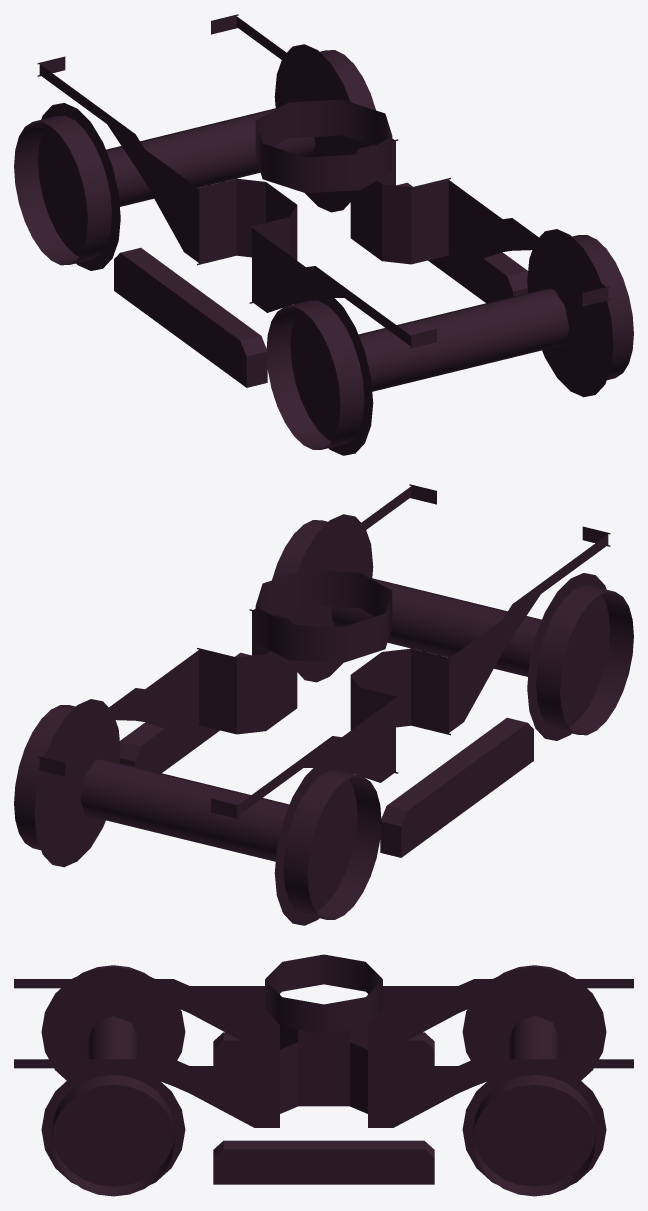
The model's file is vagon cart lod2.FBX.
The picture shows the model from 3 angles, top to bottom: view 1: azimuth 30°, elevation 25°; view 2: azimuth 150°, elevation 25°; view 3: azimuth 270°, elevation 25°; orthographic projection. The views are drawn at different scales.
Visible parts, largest first — view 1: base002, wheel 004, wheel 008; view 2: base002, wheel 008, wheel 004; view 3: base002, wheel 004, wheel 008.
Boxes of the visible parts, x1,y1,x2,y2 form: base002: (37, 14, 610, 391); wheel 004: (266, 229, 633, 455); wheel 008: (14, 44, 375, 270); base002: (37, 484, 610, 861); wheel 008: (14, 699, 381, 925); wheel 004: (272, 514, 633, 740); base002: (14, 954, 633, 1184); wheel 004: (41, 965, 185, 1196); wheel 008: (462, 965, 606, 1196).
Size of the model in its own units: 1.1 by 0.7151 by 2.41.
